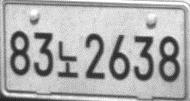2: (83, 32, 106, 80)
3: (132, 35, 155, 81), (32, 31, 53, 77)
6: (109, 34, 130, 81)
8: (158, 36, 181, 82), (10, 31, 30, 75)
노: (56, 40, 80, 78)
